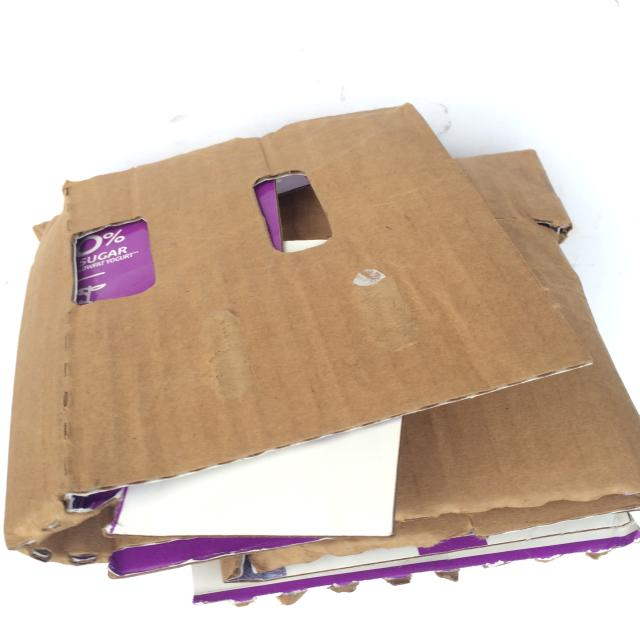cardboard: (0, 95, 640, 600)
